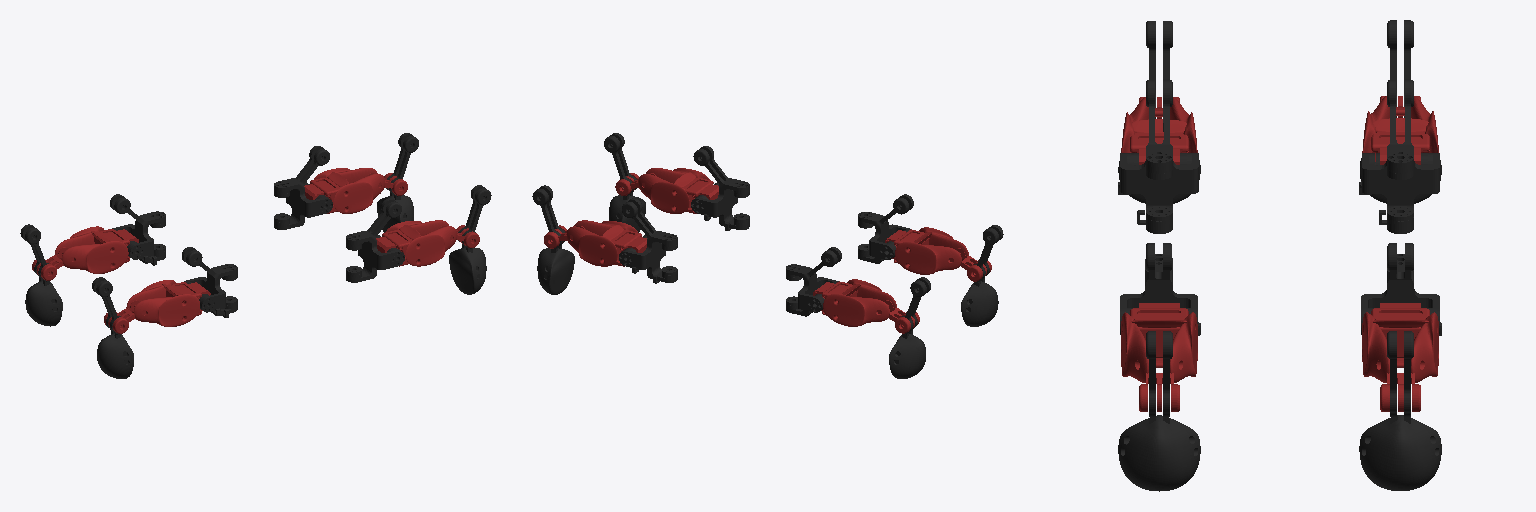
The robot description file, URDF, robot "tobias":
<?xml version="1.0"?>
<robot name="tobias">
    <!-- BASE -->
    <link name="base">
        <visual>
            <origin xyz="0 0 0" rpy="0 0 0"/>
            <geometry>
                <mesh filename="base.stl" scale="0.001 0.001 0.001"/>
            </geometry>
            <material name="white">
                <color rgba="1 1 1 1"/>
            </material>
        </visual>
        <collision>
            <origin xyz="0 0 0" rpy="0 0 0"/>
            <geometry>
                <mesh filename="base.stl" scale="0.001 0.001 0.001"/>
            </geometry>
        </collision>
        <inertial>
            <mass value="0.951"/>
            <origin xyz="0.0 0.0 0.0"/>
            <inertia ixx="0.012350" ixy="-0.0000023" ixz="-0.0000720" iyy="0.010280" iyz="-0.000001114" izz="0.01949"/>
        </inertial>
    </link>

    <!-- ATTACHMENTS -->
    <link name="fr_joint">
        <visual>
            <origin xyz="0.0361 -0.1161 -0.0250" rpy="0 0 0"/>
            <geometry>
                <mesh filename="fr_joint.stl" scale="0.001 0.001 0.001"/>
            </geometry>
            <material name="dark_gray">
                <color rgba="0.2 0.2 0.2 1"/>
            </material>
        </visual>
        <collision>
            <origin xyz="0.0361 -0.1161 -0.0250" rpy="0 0 0"/>
            <geometry>
                <mesh filename="fr_joint.stl" scale="0.001 0.001 0.001"/>
            </geometry>
        </collision>
        <inertial>
            <mass value="0.04"/>
            <origin xyz="-0.1105 0.0873 0.0014"/>
            <inertia ixx="0.0000338460" ixy="0.00000109684" ixz="0.00000449108" iyy="0.0000485951" iyz="0.000000101" izz="0.00003789"/>
        </inertial>
    </link>

    <link name="fl_joint">
        <visual>
            <origin xyz="0.0361 0.0571 -0.0250" rpy="0 0 0"/>
            <geometry>
                <mesh filename="fl_joint.stl" scale="0.001 0.001 0.001"/>
            </geometry>
            <material name="dark_gray">
                <color rgba="0.2 0.2 0.2 1"/>
            </material>
        </visual>
        <collision>
            <origin xyz="0.0361 0.0571 -0.0250" rpy="0 0 0"/>
            <geometry>
                <mesh filename="fl_joint.stl" scale="0.001 0.001 0.001"/>
            </geometry>
        </collision>
        <inertial>
            <mass value="0.04"/>
            <origin xyz="-0.1105 -0.0873 0.0014"/>
            <inertia ixx="0.0000338460" ixy="0.00000109684" ixz="0.00000449108" iyy="0.0000485951" iyz="0.000000101" izz="0.00003789"/>
        </inertial>
    </link>

    <link name="br_joint">
        <visual>
            <origin xyz="-0.1371 -0.1161 -0.0250" rpy="0 0 0"/>
            <geometry>
                <mesh filename="br_joint.stl" scale="0.001 0.001 0.001"/>
            </geometry>
            <material name="dark_gray">
                <color rgba="0.2 0.2 0.2 1"/>
            </material>
        </visual>
        <collision>
            <origin xyz="-0.1371 -0.1161 -0.0250" rpy="0 0 0"/>
            <geometry>
                <mesh filename="br_joint.stl" scale="0.001 0.001 0.001"/>
            </geometry>
        </collision>
        <inertial>
            <mass value="0.04"/>
            <origin xyz="0.1113 0.0873 0.0014"/>
            <inertia ixx="0.0000338460" ixy="0.00000109684" ixz="-0.00000449108" iyy="0.0000485951" iyz="-0.000000101" izz="0.00003789"/>
        </inertial>
    </link>

    <link name="bl_joint">
        <visual>
            <origin xyz="-0.1371 0.0571 -0.0250" rpy="0 0 0"/>
            <geometry>
                <mesh filename="bl_joint.stl" scale="0.001 0.001 0.001"/>
            </geometry>
            <material name="dark_gray">
                <color rgba="0.2 0.2 0.2 1"/>
            </material>
        </visual>
        <collision>
            <origin xyz="-0.1371 0.0571 -0.0250" rpy="0 0 0"/>
            <geometry>
                <mesh filename="bl_joint.stl" scale="0.001 0.001 0.001"/>
            </geometry>
        </collision>
        <inertial>
            <mass value="0.04"/>
            <origin xyz="0.1113 -0.0873 0.0014"/>
            <inertia ixx="0.0000338460" ixy="0.00000109684" ixz="-0.00000449108" iyy="0.0000485951" iyz="-0.000000101" izz="0.00003789"/>
        </inertial>
    </link>

    <!-- LEGS -->
    <link name="fr_leg">
        <visual>
            <origin xyz="0.01 0 0.0" rpy="0 1.57 3.14"/>
            <geometry>
                <mesh filename="fr_leg.stl" scale="0.001 0.001 0.001"/>
            </geometry>
            <material name="red">
                <color rgba="0.6 0.2 0.2 1"/>
            </material>
        </visual>
        <collision>
            <origin xyz="0.01 0 0.0" rpy="0 1.57 3.14"/>
            <geometry>
                <mesh filename="fr_leg.stl" scale="0.001 0.001 0.001"/>
            </geometry>
        </collision>
        <inertial>
            <mass value="0.2"/>
            <origin xyz="-0.1519 0.0867 -0.0056"/>
            <inertia ixx="0.000059187" ixy="-0.000000695" ixz="0.000000032" iyy="0.0001867" iyz="0.000000004" izz="0.0002084"/>
        </inertial>
    </link>

    <link name="fl_leg">
        <visual>
            <origin xyz="0.01 0 0.0" rpy="0 1.57 3.14"/>
            <geometry>
                <mesh filename="fl_leg.stl" scale="0.001 0.001 0.001"/>
            </geometry>
            <material name="red">
                <color rgba="0.6 0.2 0.2 1"/>
            </material>
        </visual>
        <collision>
            <origin xyz="0.01 0 0.0" rpy="0 1.57 3.14"/>
            <geometry>
                <mesh filename="fl_leg.stl" scale="0.001 0.001 0.001"/>
            </geometry>
        </collision>
        <inertial>
            <mass value="0.2"/>
            <origin xyz="-0.1519 -0.0867 -0.0056"/>
            <inertia ixx="0.000059187" ixy="-0.000000695" ixz="0.000000032" iyy="0.0001867" iyz="0.000000004" izz="0.0002084"/>
        </inertial>
    </link>

    <link name="br_leg">
        <visual>
            <origin xyz="-0.01 0 0.0" rpy="0 1.57 0"/>
            <geometry>
                <mesh filename="br_leg.stl" scale="0.001 0.001 0.001"/>
            </geometry>
            <material name="red">
                <color rgba="0.6 0.2 0.2 1"/>
            </material>
        </visual>
        <collision>
            <origin xyz="-0.01 0 0.0" rpy="0 1.57 0"/>
            <geometry>
                <mesh filename="br_leg.stl" scale="0.001 0.001 0.001"/>
            </geometry>
        </collision>
        <inertial>
            <mass value="0.2"/>
            <origin xyz="0.1527 0.0867 -0.0056"/>
            <inertia ixx="0.000059187" ixy="-0.000000695" ixz="-0.000000032" iyy="0.0001867" iyz="-0.000000004" izz="0.0002084"/>
        </inertial>
    </link>

    <link name="bl_leg">
        <visual>
            <origin xyz="-0.01 0 0.0" rpy="0 1.57 0"/>
            <geometry>
                <mesh filename="bl_leg.stl" scale="0.001 0.001 0.001"/>
            </geometry>
            <material name="red">
                <color rgba="0.6 0.2 0.2 1"/>
            </material>
        </visual>
        <collision>
            <origin xyz="-0.01 0 0.0" rpy="0 1.57 0"/>
            <geometry>
                <mesh filename="bl_leg.stl" scale="0.001 0.001 0.001"/>
            </geometry>
        </collision>
        <inertial>
            <mass value="0.2"/>
            <origin xyz="0.1527 -0.0867 -0.0056"/>
            <inertia ixx="0.000059187" ixy="-0.000000695" ixz="-0.000000032" iyy="0.0001867" iyz="-0.000000004" izz="0.0002084"/>
        </inertial>
    </link>

    <!-- FEET -->
    <link name="fr_foot">
        <visual>
            <origin xyz="0.232 -0.217 0.0786" rpy="0 0 0"/>
            <geometry>
                <mesh filename="fr_foot.stl" scale="0.001 0.001 0.001"/>
            </geometry>
            <material name="dark_gray">
                <color rgba="0.2 0.2 0.2 1"/>
            </material>
        </visual>
        <collision>
            <origin xyz="0.232 -0.217 0.0786" rpy="0 0 0"/>
            <geometry>
                <mesh filename="fr_foot.stl" scale="0.001 0.001 0.001"/>
            </geometry>
        </collision>
        <inertial>
            <mass value="0.06"/>
            <origin xyz="-0.2478 0.0863 -0.0478"/>
            <inertia ixx="0.00006136" ixy="-0.000000000002" ixz="0.000005862" iyy="0.00005758" iyz="0.0000000001" izz="0.00001390"/>
        </inertial>
    </link>

    <link name="fl_foot">
        <visual>
            <origin xyz="0.1735 -0.031 0.0965" rpy="0 0 0"/>
            <geometry>
                <mesh filename="fl_foot.stl" scale="0.001 0.001 0.001"/>
            </geometry>
            <material name="dark_gray">
                <color rgba="0.2 0.2 0.2 1"/>
            </material>
        </visual>
        <collision>
            <origin xyz="0.1735 -0.03 0.0965" rpy="0 0 0"/>
            <geometry>
                <mesh filename="fl_foot.stl" scale="0.001 0.001 0.001"/>
            </geometry>
        </collision>
        <inertial>
            <mass value="0.06"/>
            <origin xyz="-0.2478 -0.0863 -0.0478"/>
            <inertia ixx="0.00006136" ixy="-0.000000000002" ixz="0.000005862" iyy="0.00005758" iyz="0.0000000001" izz="0.00001390"/>
        </inertial>
    </link>

    <link name="br_foot">
        <visual>
            <origin xyz="-0.207 -0.2295 0.0636" rpy="0 0 0"/>
            <geometry>
                <mesh filename="br_foot.stl" scale="0.001 0.001 0.001"/>
            </geometry>
            <material name="dark_gray">
                <color rgba="0.2 0.2 0.2 1"/>
            </material>
        </visual>
        <collision>
            <origin xyz="-0.207 -0.2295 0.0636" rpy="0 0 0"/>
            <geometry>
                <mesh filename="br_foot.stl" scale="0.001 0.001 0.001"/>
            </geometry>
        </collision>
        <inertial>
            <mass value="0.06"/>
            <origin xyz="0.2486 0.0863 -0.0478"/>
            <inertia ixx="0.00006136" ixy="-0.000000000002" ixz="-0.000005862" iyy="0.00005758" iyz="-0.0000000001" izz="0.00001390"/>
        </inertial>
    </link>

    <link name="bl_foot">
        <visual>
            <origin xyz="-0.1555 -0.074 0.056" rpy="0 0 0"/>
            <geometry>
                <mesh filename="bl_foot.stl" scale="0.001 0.001 0.001"/>
            </geometry>
            <material name="dark_gray">
                <color rgba="0.2 0.2 0.2 1"/>
            </material>
        </visual>
        <collision>
            <origin xyz="-0.1555 -0.074 0.056" rpy="0 0 0"/>
            <geometry>
                <mesh filename="bl_foot.stl" scale="0.001 0.001 0.001"/>
            </geometry>
        </collision>
        <inertial>
            <mass value="0.06"/>
            <origin  xyz="0.2486 0.0863 -0.0478"/>
            <inertia ixx="0.00006136" ixy="-0.000000000002" ixz="-0.000005862" iyy="0.00005758" iyz="-0.0000000001" izz="0.00001390"/>
        </inertial>
    </link>

    <!-- BASE TO JOINT CONNECTIONS -->
    <joint name="joint_base_to_fr" type="revolute">
        <parent link="base"/>
        <child link="fr_joint"/>
        <origin xyz="-0.0361 0.1161 0.0250" rpy="0 0 0"/>
        <axis xyz="0 0 -1"/>
        <limit lower="0" upper="1.571" effort="1.667" velocity="0.5"/>
    </joint>

    <joint name="joint_base_to_fl" type="revolute">
        <parent link="base"/>
        <child link="fl_joint"/>
        <origin xyz="-0.0361 -0.0571 0.0250" rpy="0 0 0"/>
        <axis xyz="0 0 1"/>
        <limit lower="0" upper="1.571" effort="1.667" velocity="0.5"/>
    </joint>

    <joint name="joint_base_to_br" type="revolute">
        <parent link="base"/>
        <child link="br_joint"/>
        <origin xyz="0.1371 0.1161 0.0250" rpy="0 0 0"/>
        <axis xyz="0 0 1"/>
        <limit lower="0" upper="1.571" effort="1.667" velocity="0.5"/>
    </joint>

    <joint name="joint_base_to_bl" type="revolute">
        <parent link="base"/>
        <child link="bl_joint"/>
        <origin xyz="0.1371 -0.0571 0.0250" rpy="0 0 0"/>
        <axis xyz="0 0 -1"/>
        <limit lower="0" upper="1.571" effort="1.667" velocity="0.5"/>
    </joint>

    <!-- JOINT TO LEG CONNECTIONS -->
    <joint name="joint_to_fr" type="revolute">
        <parent link="fr_joint"/>
        <child link="fr_leg"/>
        <origin xyz="-0.0449 0 -0.008" rpy="0 0 0"/>
        <axis xyz="0 -1 0"/>
        <limit lower="-0.262" upper="1.047" effort="1.667" velocity="0.5"/>
    </joint>

    <joint name="joint_to_fl" type="revolute">
        <parent link="fl_joint"/>
        <child link="fl_leg"/>
        <origin xyz="-0.0449 0 -0.0088" rpy="0 0 0"/>
        <axis xyz="0 -1 0"/>
        <limit lower="-0.262" upper="1.047" effort="1.667" velocity="0.5"/>
    </joint>

    <joint name="joint_to_br" type="revolute">
        <parent link="br_joint"/>
        <child link="br_leg"/>
        <origin xyz="0.045 0 -0.0088" rpy="0 0 0"/>
        <axis xyz="0 1 0"/>
        <limit lower="-0.262" upper="1.047" effort="1.667" velocity="0.5"/>
    </joint>

    <joint name="joint_to_bl" type="revolute">
        <parent link="bl_joint"/>
        <child link="bl_leg"/>
        <origin xyz="0.045 0 -0.0088" rpy="0 0 0"/>
        <axis xyz="0 1 0"/>
        <limit lower="-0.262" upper="1.047" effort="1.667" velocity="0.5"/>
    </joint>

    <!-- LEG TO FOOT CONNECTIONS -->
    <joint name="fr_foot_joint" type="revolute">
        <parent link="fr_leg"/>
        <child link="fr_foot"/>
        <origin xyz="-0.113 0 -0.008" rpy="0 0 0"/>
        <axis xyz="0 1 0"/>
        <limit lower="-1.262" upper="1.047"/>
    </joint>

    <joint name="fl_foot_joint" type="revolute">
        <parent link="fl_leg"/>
        <child link="fl_foot"/>
        <origin xyz="-0.113 0 -0.008" rpy="0 0 0"/>
        <axis xyz="0 1 0"/>
        <limit lower="-1.262" upper="1.047"/>
    </joint>

    <joint name="br_foot_joint" type="revolute">
        <parent link="br_leg"/>
        <child link="br_foot"/>
        <origin xyz="0.113 0 -0.008" rpy="0 0 0"/>
        <axis xyz="0 -1 0"/>
        <limit lower="-1.262" upper="1.047"/>
    </joint>

    <joint name="bl_foot_joint" type="revolute">
        <parent link="bl_leg"/>
        <child link="bl_foot"/>
        <origin xyz="0.113 0 -0.008" rpy="0 0 0"/>
        <axis xyz="0 -1 0"/>
        <limit lower="-1.262" upper="1.047"/>
    </joint>

</robot>

--- What the picture shows (computed from the rendered views, not written in the file) ---
3 views of the same robot in one strip: view 1: azimuth 30°, elevation 25°; view 2: azimuth 150°, elevation 25°; view 3: azimuth 270°, elevation 25° (orthographic).
Robot: tobias — 13 links, 12 joints (12 revolute); root link base; default pose: all joints at 0.
Visible links, largest first — view 1: fr_leg, fl_leg, br_leg, bl_leg, br_joint, bl_joint, bl_foot, fl_foot, fr_foot, fl_joint, fr_joint, br_foot; view 2: fr_leg, fl_leg, bl_leg, br_leg, br_joint, bl_joint, br_foot, fl_foot, fr_foot, fl_joint, fr_joint, bl_foot; view 3: br_foot, bl_foot, fl_joint, fr_joint, br_leg, bl_leg, fr_leg, fl_leg, br_joint, bl_joint, fr_foot, fl_foot.
Boxes of the visible links, bbox=[...] form: fr_leg: bbox=[32, 226, 138, 280]; fl_leg: bbox=[104, 280, 210, 333]; br_leg: bbox=[304, 168, 407, 213]; bl_leg: bbox=[376, 220, 479, 266]; br_joint: bbox=[274, 146, 332, 229]; bl_joint: bbox=[346, 198, 404, 282]; bl_foot: bbox=[449, 185, 491, 294]; fl_foot: bbox=[92, 277, 133, 378]; fr_foot: bbox=[20, 224, 62, 326]; fl_joint: bbox=[182, 247, 237, 317]; fr_joint: bbox=[110, 194, 165, 265]; br_foot: bbox=[377, 133, 418, 232]; fr_leg: bbox=[813, 279, 919, 333]; fl_leg: bbox=[885, 227, 991, 281]; bl_leg: bbox=[615, 168, 718, 213]; br_leg: bbox=[544, 220, 646, 266]; br_joint: bbox=[619, 198, 677, 283]; bl_joint: bbox=[691, 146, 749, 230]; br_foot: bbox=[532, 185, 574, 294]; fl_foot: bbox=[961, 225, 1003, 326]; fr_foot: bbox=[889, 277, 930, 378]; fl_joint: bbox=[858, 194, 913, 263]; fr_joint: bbox=[786, 247, 841, 316]; bl_foot: bbox=[604, 133, 645, 232]; br_foot: bbox=[1359, 331, 1441, 490]; bl_foot: bbox=[1118, 331, 1200, 491]; fl_joint: bbox=[1118, 79, 1198, 233]; fr_joint: bbox=[1359, 79, 1439, 233]; br_leg: bbox=[1362, 303, 1438, 411]; bl_leg: bbox=[1121, 303, 1197, 411]; fr_leg: bbox=[1362, 96, 1438, 164]; fl_leg: bbox=[1121, 97, 1197, 164]; br_joint: bbox=[1361, 243, 1441, 335]; bl_joint: bbox=[1120, 243, 1200, 335]; fr_foot: bbox=[1360, 20, 1441, 203]; fl_foot: bbox=[1118, 21, 1200, 203].
Size in the robot's own frame: 0.5471 by 0.2332 by 0.1463 metres.
12 mesh visuals loaded from 13 distinct referenced files (12 binary STL); not drawn: 1 (reference not matched to a file when rendering).
